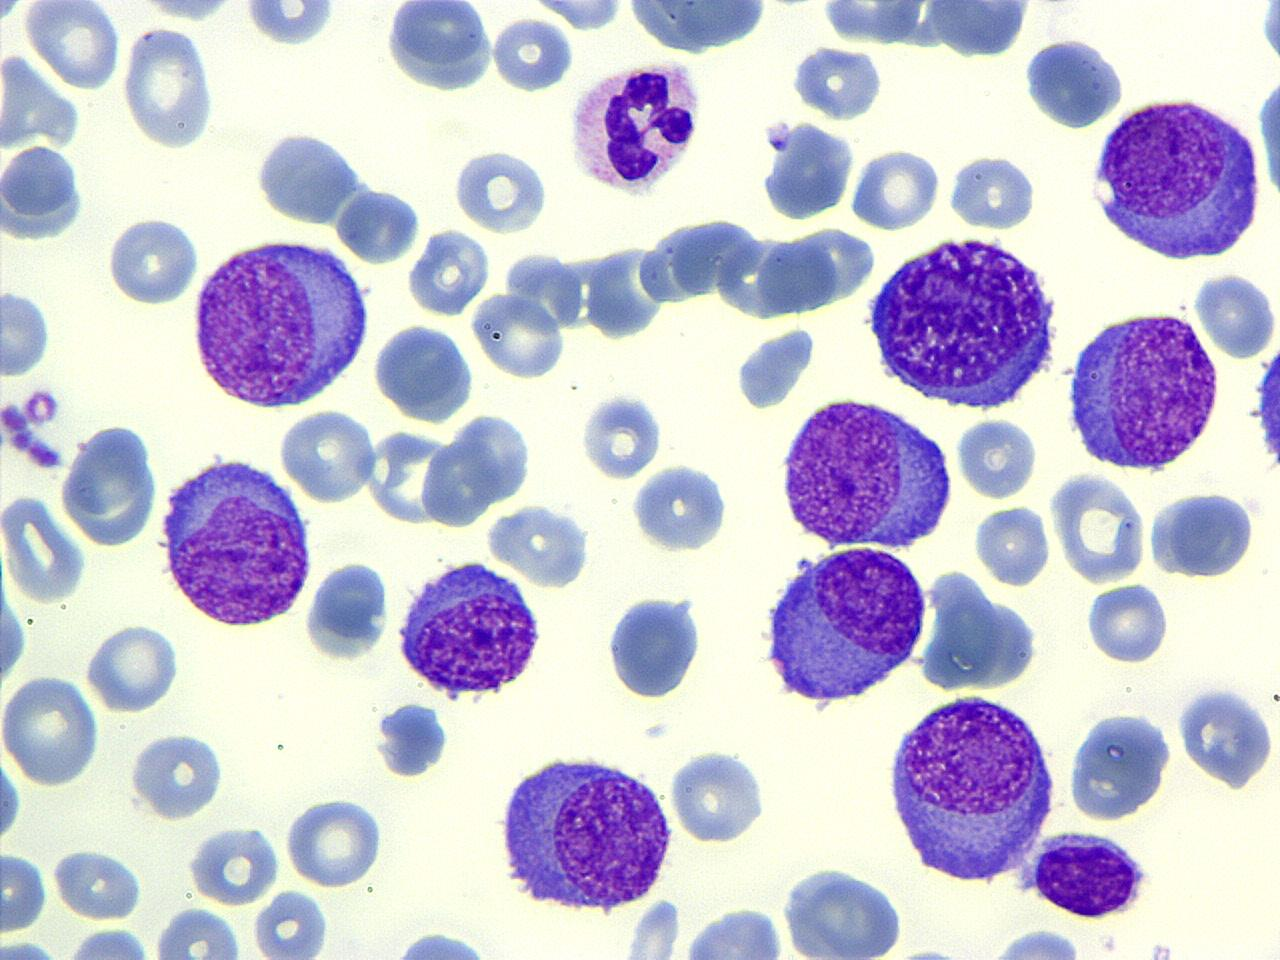Platelets: (1175, 680, 1275, 790), (578, 388, 664, 482), (734, 324, 816, 414), (1086, 581, 1170, 668), (371, 700, 449, 782), (0, 281, 57, 380), (241, 1, 338, 51), (624, 896, 687, 957), (0, 755, 24, 848), (19, 382, 62, 428), (1258, 0, 1280, 72), (24, 438, 64, 470), (896, 941, 960, 960), (763, 118, 792, 152), (1, 396, 26, 432), (3, 426, 32, 453)
RBC: (120, 21, 220, 154), (0, 671, 103, 788), (1046, 469, 1148, 582), (275, 406, 378, 505), (0, 489, 88, 603), (282, 794, 385, 890), (483, 503, 596, 590), (82, 618, 183, 714), (102, 215, 203, 308), (21, 1, 123, 91), (452, 146, 552, 236), (471, 291, 568, 382), (848, 142, 944, 233), (405, 225, 494, 319), (184, 823, 282, 907), (577, 389, 665, 482), (945, 151, 1041, 231), (952, 412, 1040, 499), (50, 843, 146, 922), (1083, 580, 1171, 666), (1193, 268, 1277, 358), (333, 185, 423, 266), (972, 501, 1050, 590), (490, 13, 572, 94), (250, 886, 334, 958), (149, 904, 246, 958), (2, 549, 29, 711), (1, 846, 50, 934), (58, 924, 159, 960), (0, 752, 25, 848), (0, 938, 62, 960)
WBC: (862, 227, 1062, 418), (882, 686, 1060, 888), (186, 232, 374, 414), (756, 538, 932, 715), (1086, 91, 1266, 264), (494, 748, 677, 916), (776, 392, 956, 552), (154, 453, 316, 630), (1060, 306, 1226, 476), (393, 556, 545, 704), (564, 53, 704, 203), (913, 564, 1044, 694), (59, 419, 164, 551), (117, 21, 220, 155), (1064, 706, 1176, 824), (778, 860, 908, 960), (1026, 826, 1154, 923), (251, 123, 363, 232), (1177, 676, 1280, 794), (604, 588, 707, 704), (381, 0, 500, 97), (370, 318, 478, 424), (1053, 471, 1151, 585), (1147, 486, 1261, 581), (666, 743, 770, 846), (1022, 33, 1128, 132), (760, 117, 858, 224), (627, 458, 732, 556), (282, 794, 386, 890), (0, 140, 93, 247), (486, 501, 595, 592), (302, 556, 393, 664), (125, 730, 228, 823), (103, 215, 204, 309), (452, 142, 552, 233), (23, 3, 127, 89), (619, 1, 770, 57), (406, 224, 492, 320), (945, 150, 1042, 234), (186, 824, 283, 908), (788, 42, 888, 123), (732, 322, 818, 413), (336, 185, 424, 267), (920, 2, 1040, 62), (372, 700, 450, 782), (676, 904, 794, 958), (1249, 310, 1280, 498), (816, 0, 932, 48), (149, 904, 248, 958), (1, 284, 56, 380), (363, 925, 518, 959), (241, 1, 343, 51), (964, 924, 1097, 958), (1254, 55, 1280, 220), (52, 922, 157, 960)
